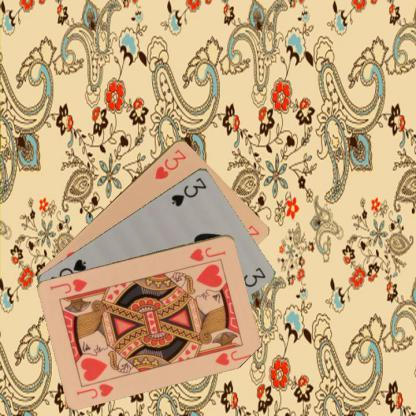3h: (152, 146, 188, 181)
3s: (168, 174, 209, 208)
Jh: (74, 380, 115, 400), (186, 244, 228, 262)
